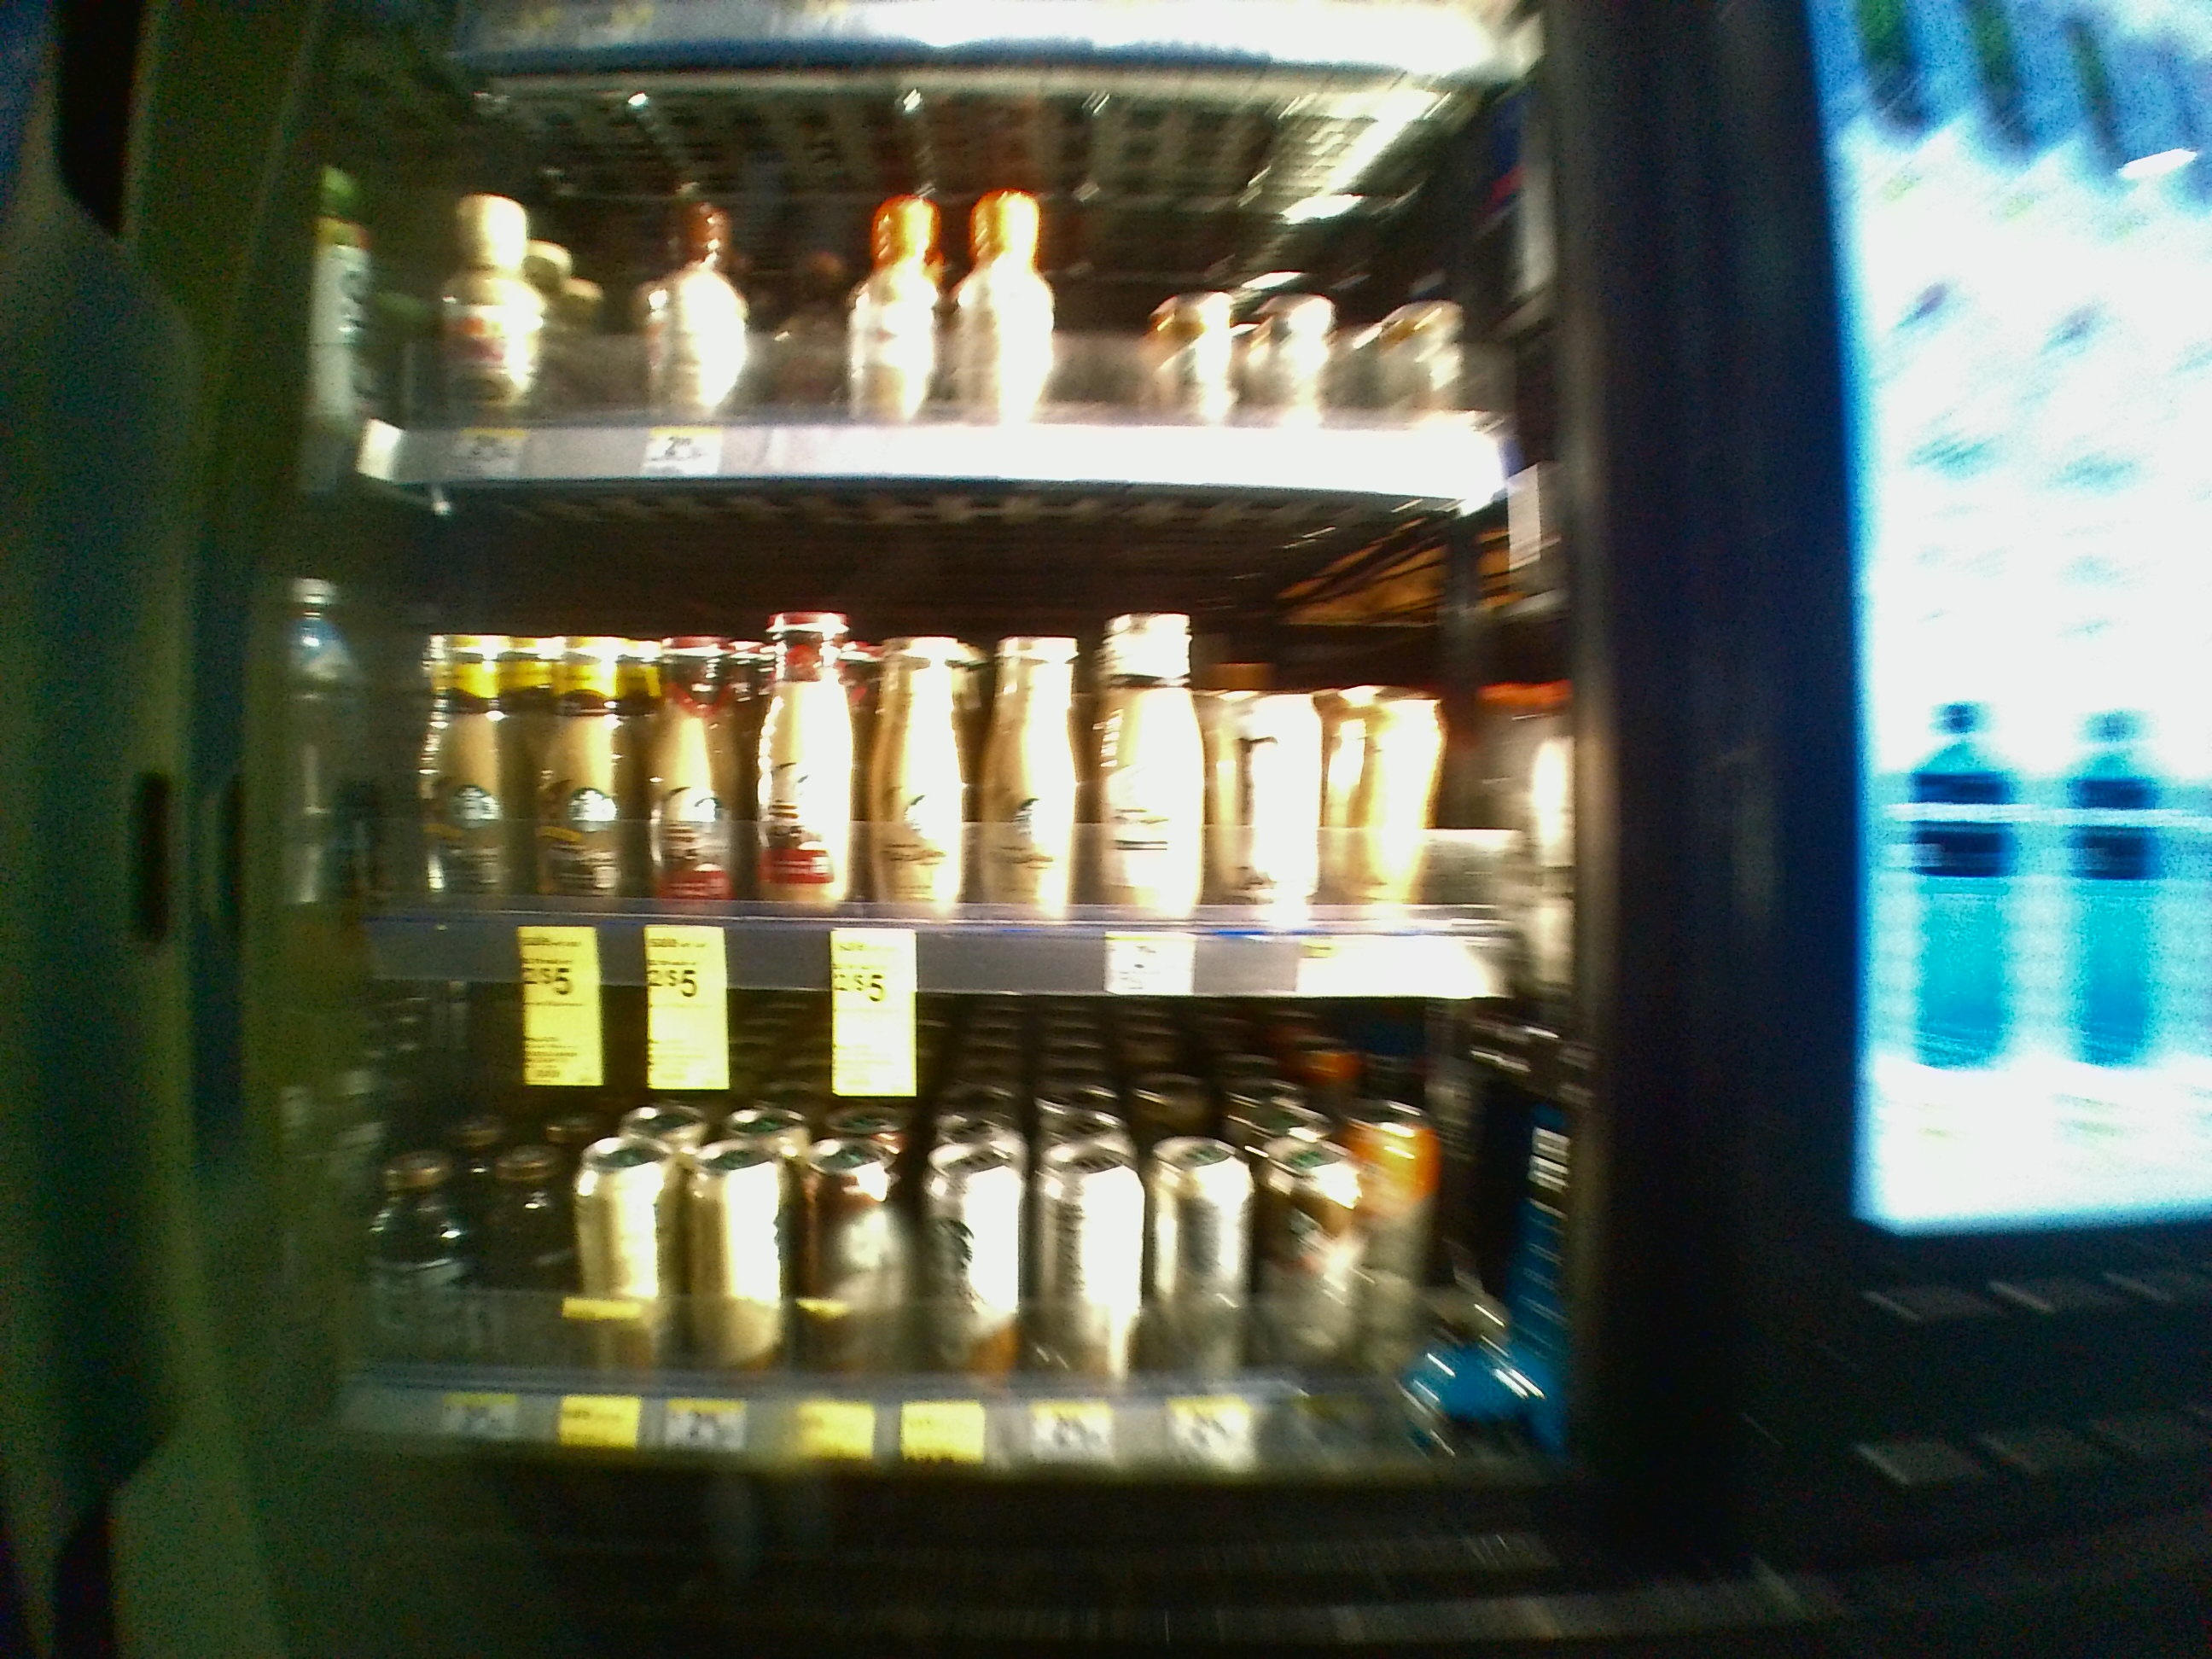shelf: (296, 486, 1609, 997), (284, 974, 1609, 1473)
